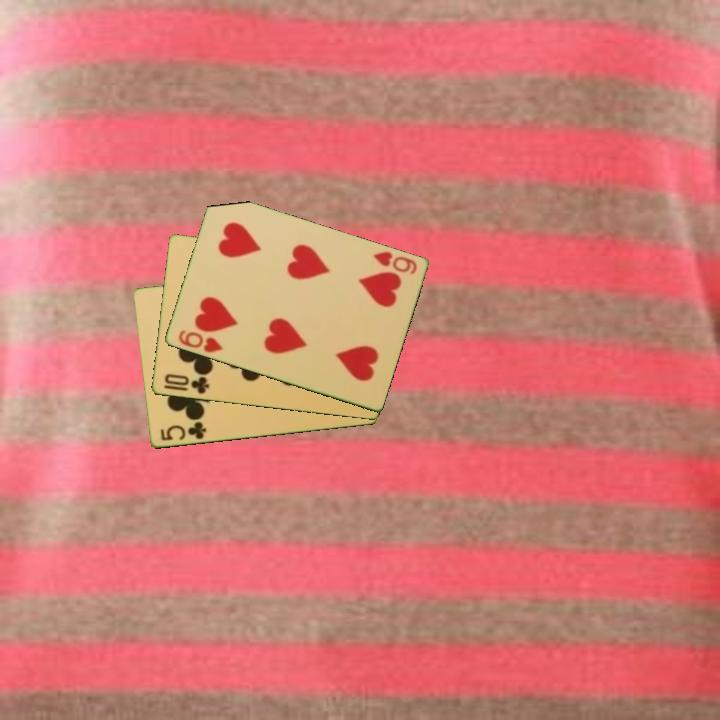10c: (161, 370, 212, 397)
5c: (157, 418, 209, 444)
6h: (175, 326, 225, 356), (369, 248, 419, 277)
